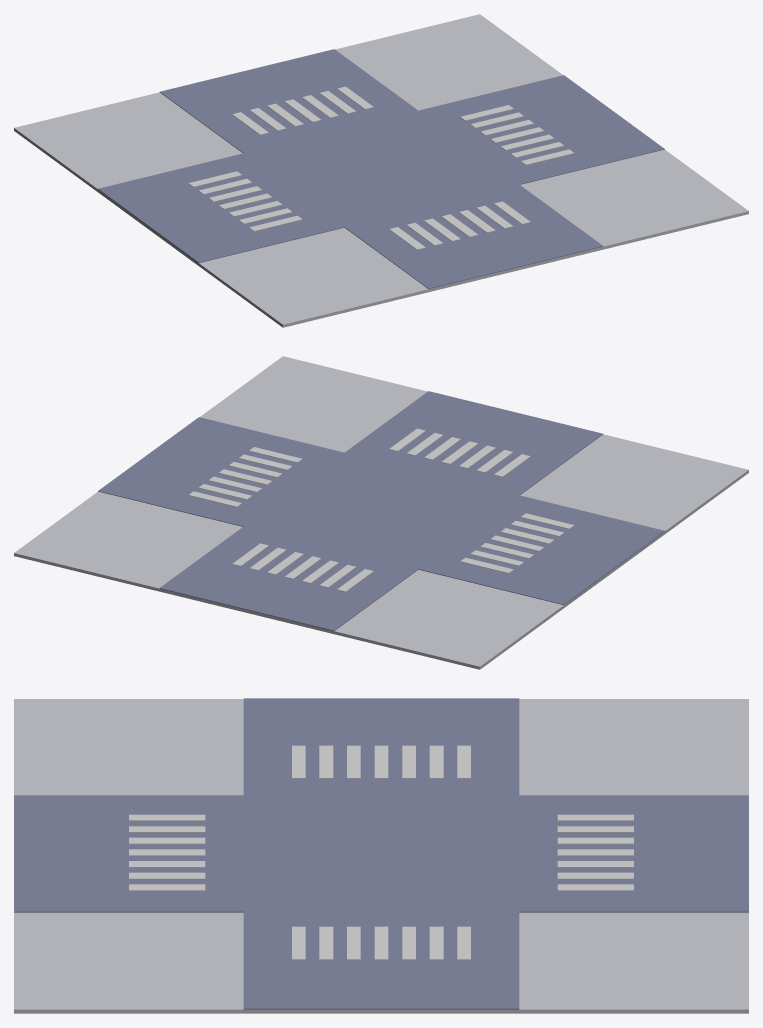
Rendered from 18_roads_plazas-02.glb.
3 views of the same model, one above another, from view 1: azimuth 30°, elevation 25°; view 2: azimuth 150°, elevation 25°; view 3: azimuth 270°, elevation 25° (orthographic). The views are drawn at different scales.
Size of the model in its own units: 24 by 0.22 by 24.
